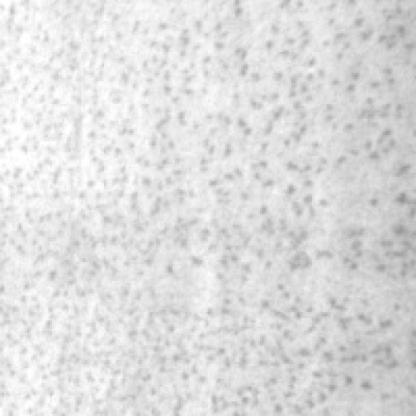pitted_surface: (0, 0, 316, 410), (278, 12, 410, 414)
